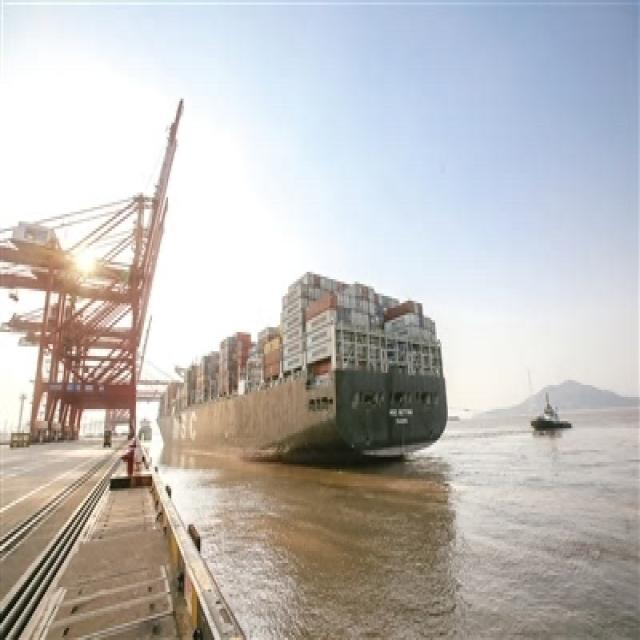cargoship: (156, 270, 446, 462)
houseboat: (532, 394, 572, 431)
